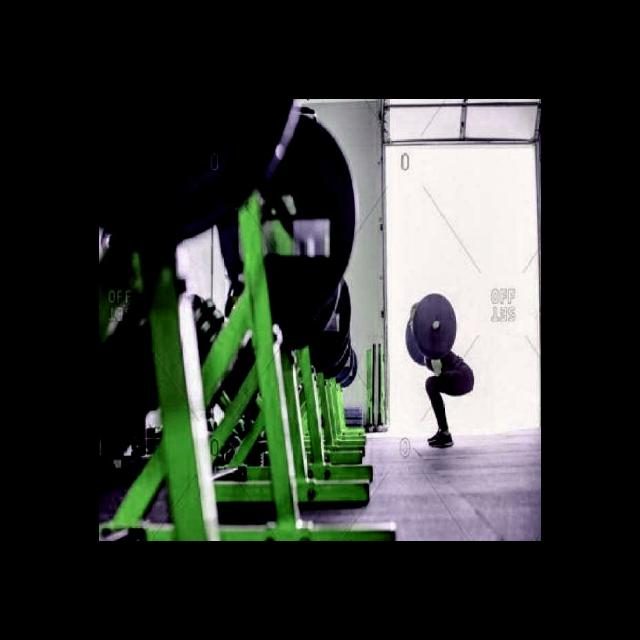barbell: (409, 287, 461, 361)
